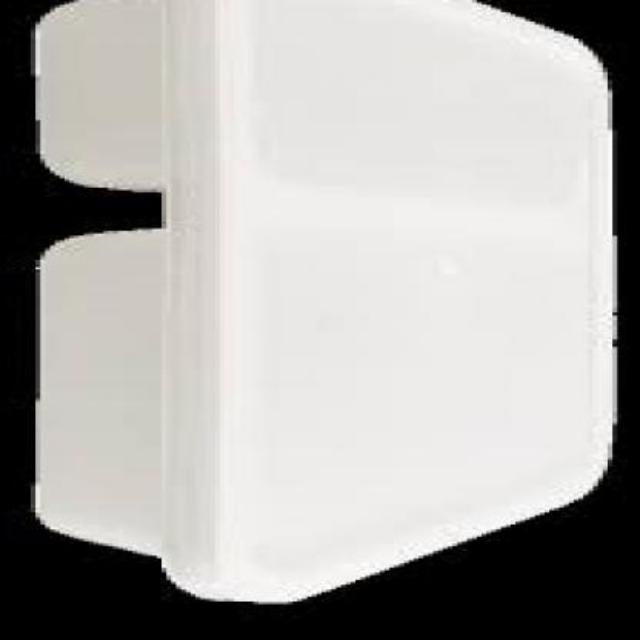plastic_box: (29, 0, 616, 606)
